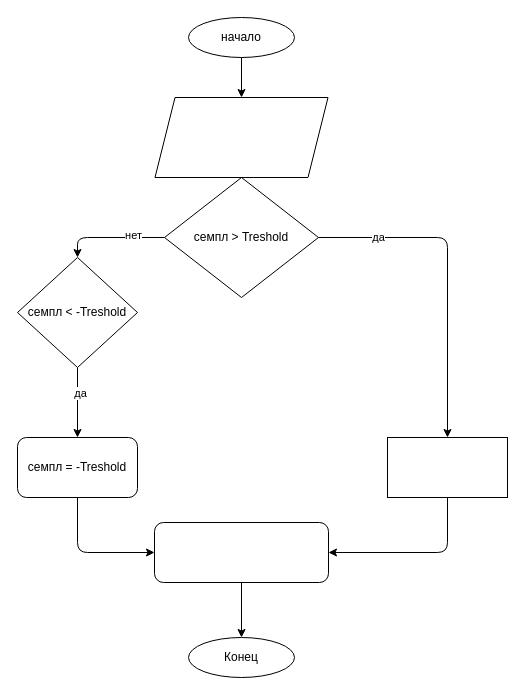
Some shapes in this 525 by 695 pixel diagram are drawn without their labels. The centre of each missing label's shape, as x and y in pixels:
"Пользователь выбирает значение Threshold" belongs at point 241,137.
"семпл = Treshold" belongs at point 447,467.
"семпл =семпл * Treshold" belongs at point 241,552.
